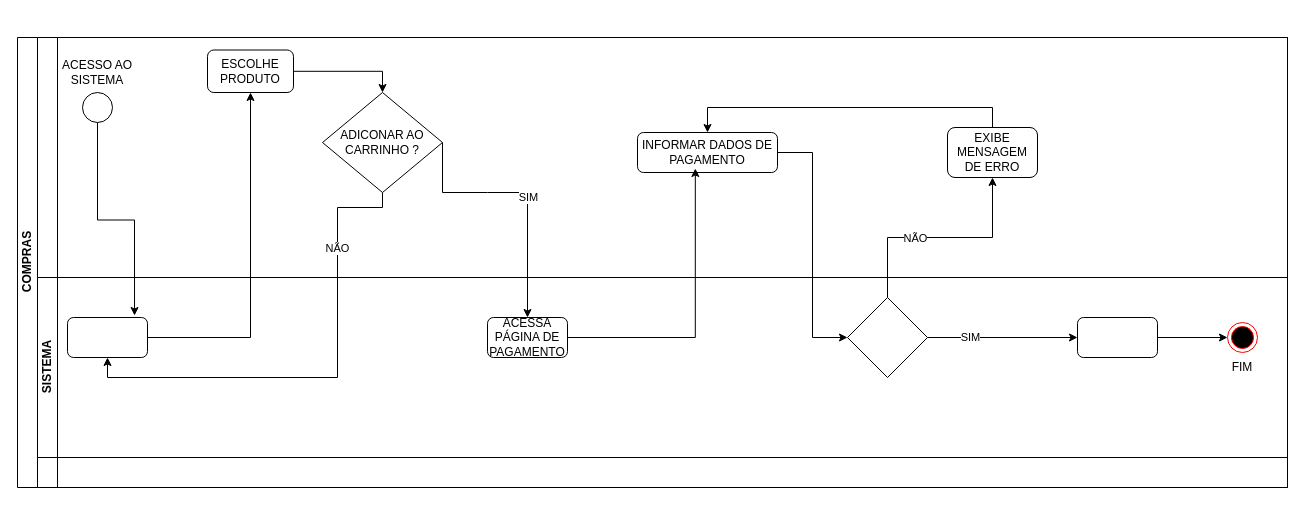
Image size: 1305x505. Some labels were removed from this diagram. The box of each missing label's shape, as (x1, y1, x2, y2) in pixels:
ACESSA PAGINA DE PRODUTOS: (66, 316, 148, 358)
CLIENTE: (36, 36, 1288, 278)
DADOS VÁLIDOS?: (846, 296, 928, 378)
GERA PEDIDO: (1076, 316, 1158, 358)
